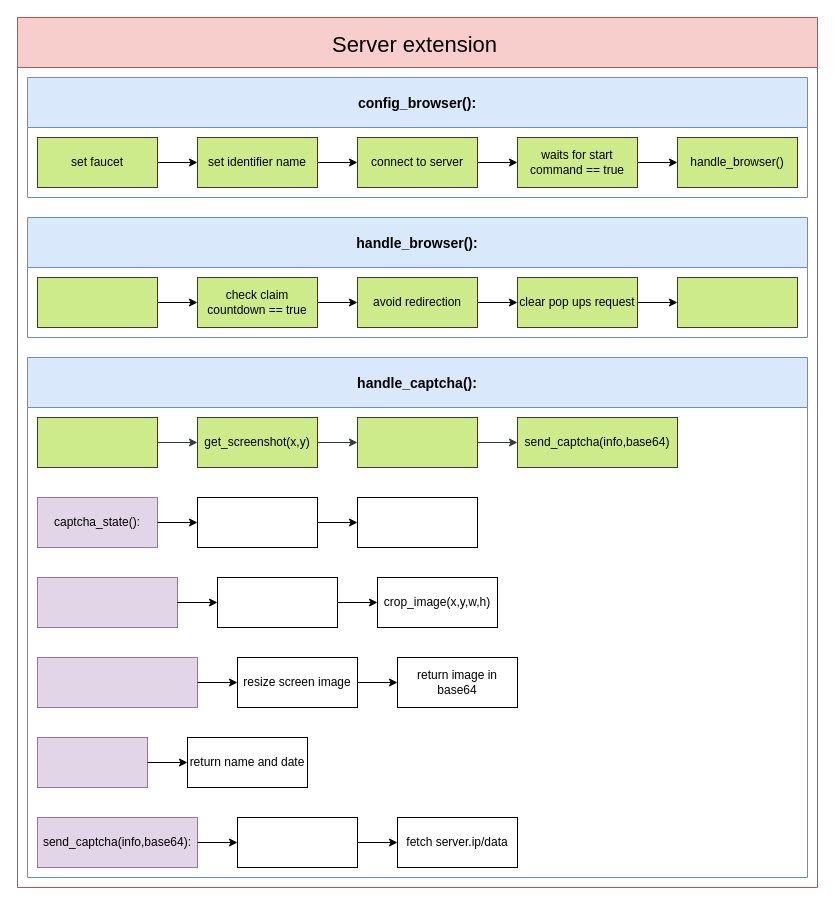
Some shapes in this 835 by 905 pixel diagram are drawn without their labels. Each missing label, with the centre of its shape:
"captcha_state() == true" belongs at (97,442).
"capture browser screen" belongs at (277,602).
"crop_image(x,y,w,h):" belongs at (117,682).
"data = info+base64" belongs at (297,842).
"find html element" belongs at (257,522).
"get_info()" belongs at (417,442).
"get_info():" belongs at (92,762).
"get_screenshot(x,y,w,h):" belongs at (107,602).
"go to selected faucet" belongs at (97,302).
"handle_captcha()" belongs at (737,302).
"return element visible state" belongs at (417,522).
